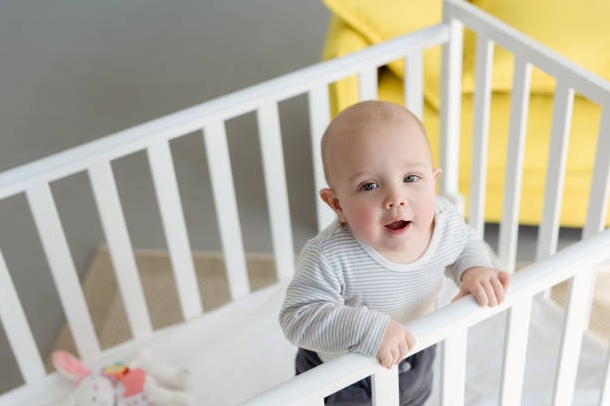baby: (280, 101, 509, 404)
crib: (0, 0, 609, 404)
